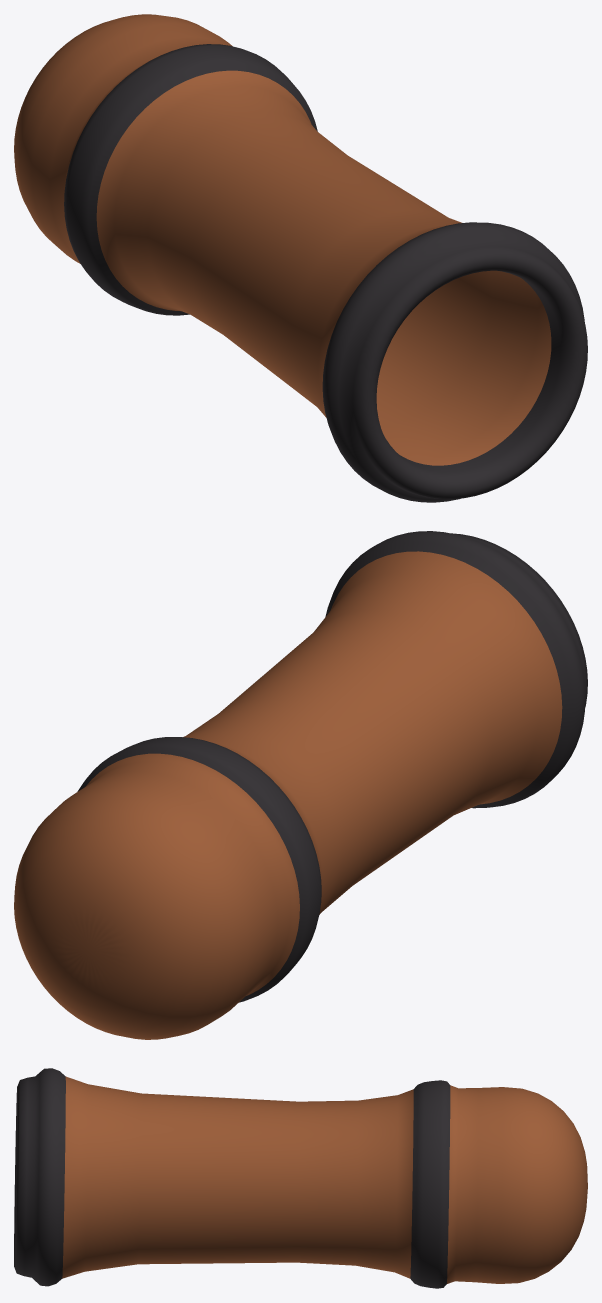
Rendered from EnemyCannon.fbx.
The picture shows the model from 3 angles, top to bottom: view 1: azimuth 30°, elevation 25°; view 2: azimuth 150°, elevation 25°; view 3: azimuth 270°, elevation 25°; orthographic projection. The views are drawn at different scales.
Parts seen in each view (by area): view 1: Cylinder.001; view 2: Cylinder.001; view 3: Cylinder.001.
Part boxes in pixels (x1,y1,x2,y2): Cylinder.001: (14, 14, 587, 502); Cylinder.001: (14, 531, 587, 1039); Cylinder.001: (14, 1068, 587, 1288).
Bounding box in the file's own units: 247 × 250 × 648.
